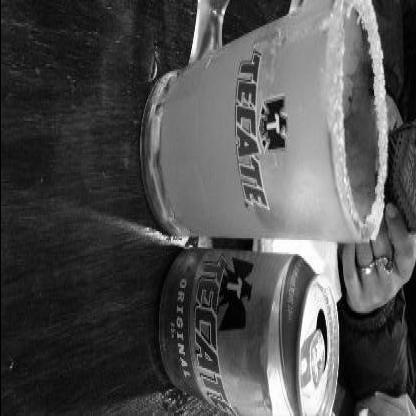alumunium_can: (155, 245, 340, 414)
objects: (134, 2, 395, 249)
